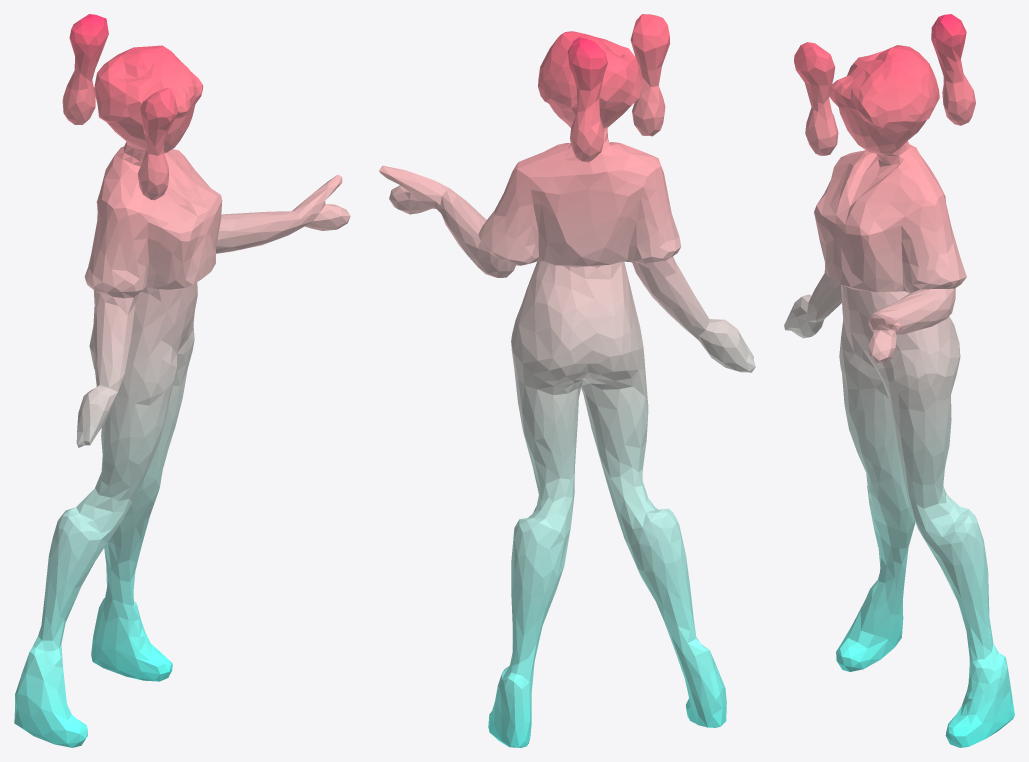
Rendered from 76_cyb_laser_gradient_fish_scales_2933_2026_10_03_211658.glb.
The picture shows the model from 3 angles, left to right: view 1: azimuth 30°, elevation 25°; view 2: azimuth 150°, elevation 25°; view 3: azimuth 270°, elevation 25°; orthographic projection. The views are drawn at different scales.
Parts seen in each view (by area): view 1: geometry_0; view 2: geometry_0; view 3: geometry_0.
Boxes of the visible parts, left/top/right/bottom form: geometry_0: left=14, top=14, right=350, bottom=747; geometry_0: left=379, top=14, right=755, bottom=747; geometry_0: left=784, top=14, right=1014, bottom=747.
Bounding box in the file's own units: 0.5036 × 1 × 0.3026.
